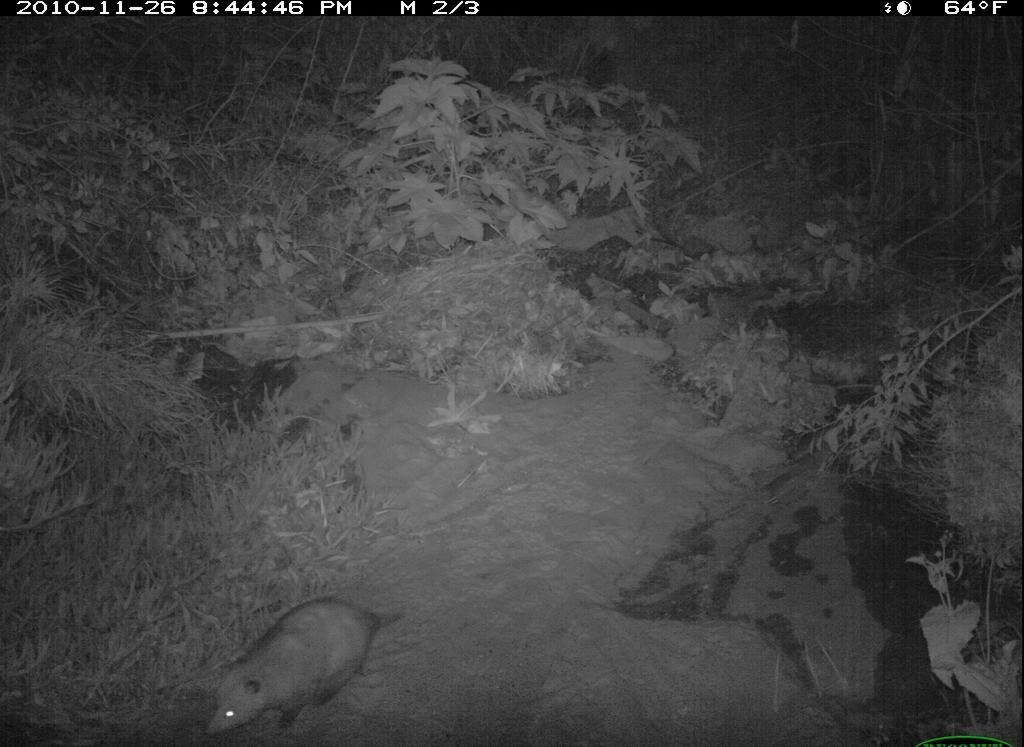opossum: (205, 584, 417, 739)
